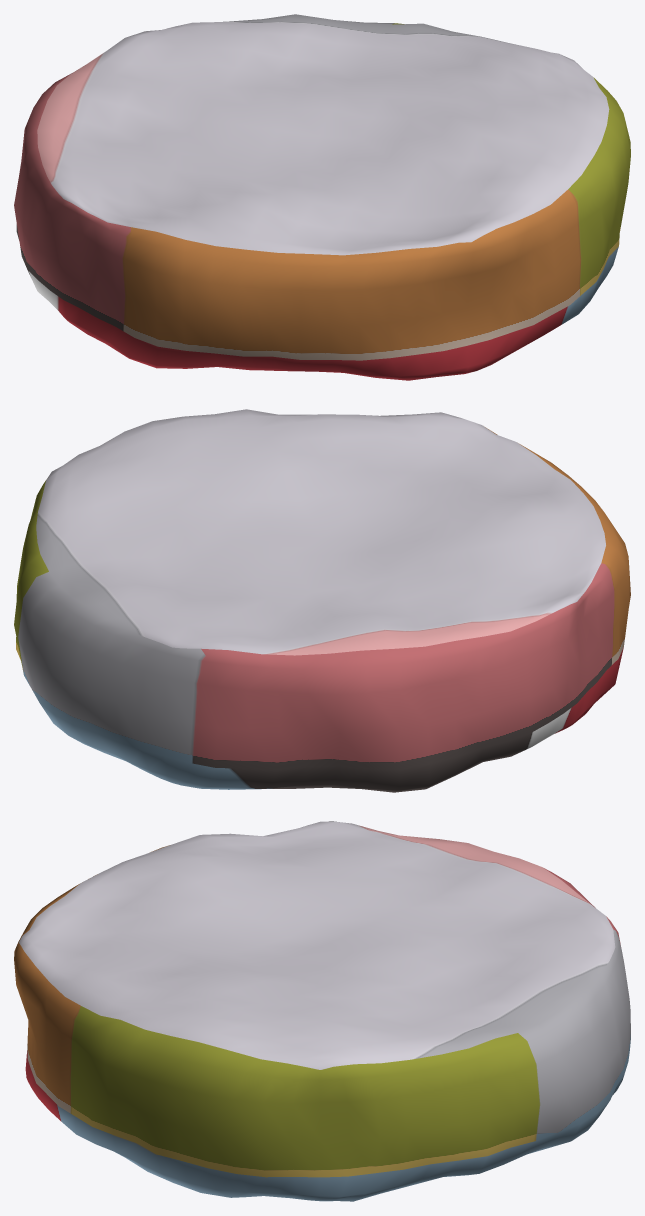
File: Button.fbx
The picture shows the model from 3 angles, top to bottom: view 1: azimuth 30°, elevation 25°; view 2: azimuth 150°, elevation 25°; view 3: azimuth 270°, elevation 25°; orthographic projection.
Parts seen in each view (by area): view 1: Button; view 2: Button; view 3: Button.
Part boxes in pixels (box(x1,y1,x2,y2)): Button: box(14, 14, 630, 380); Button: box(14, 409, 630, 792); Button: box(14, 821, 630, 1201).
Bounding box in the file's own units: 84.05 × 25.88 × 84.72.
